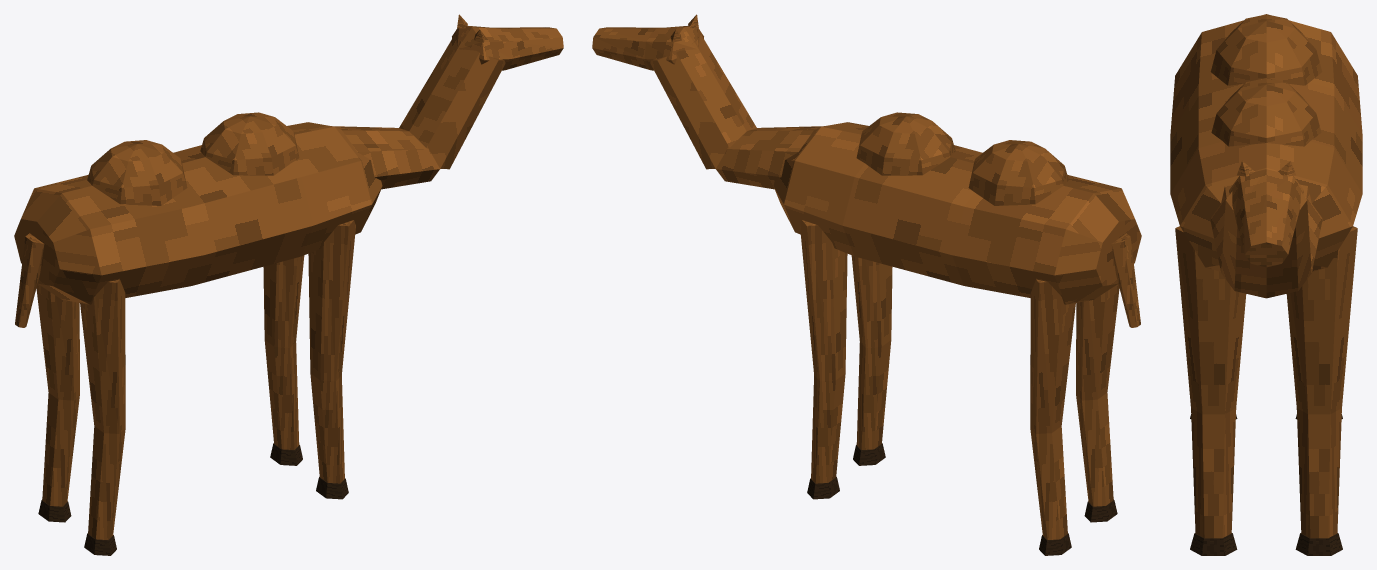
File: camello_bactriano.glb
3 renders of one model, left to right at view 1: azimuth 30°, elevation 25°; view 2: azimuth 150°, elevation 25°; view 3: azimuth 270°, elevation 25°, orthographic. The views are drawn at different scales.
Visible parts, largest first — view 1: cuerpo, cuello, pata_delantera_der, pata_trasera_der, pata_trasera_izq, pata_delantera_izq, joroba_1, joroba_2, cabeza, cola; view 2: cuerpo, cuello, pata_delantera_izq, pata_trasera_izq, pata_trasera_der, pata_delantera_der, joroba_1, joroba_2, cabeza, cola; view 3: cuerpo, pata_delantera_izq, pata_delantera_der, cuello, joroba_1, joroba_2, cabeza, pezuna_delantera_izq, pezuna_delantera_der, orejas.
Boxes of the visible parts, x1,y1,x2,y2 form: cuerpo: [14, 122, 382, 304]; cuello: [333, 35, 505, 189]; pata_delantera_der: [308, 220, 355, 483]; pata_trasera_der: [80, 279, 125, 539]; pata_trasera_izq: [36, 284, 79, 506]; pata_delantera_izq: [263, 255, 304, 449]; joroba_1: [87, 140, 187, 205]; joroba_2: [200, 112, 299, 175]; cabeza: [452, 26, 563, 70]; cola: [15, 233, 44, 327]; cuerpo: [773, 122, 1141, 304]; cuello: [650, 35, 822, 189]; pata_delantera_izq: [800, 220, 847, 483]; pata_trasera_izq: [1030, 279, 1075, 539]; pata_trasera_der: [1076, 284, 1119, 506]; pata_delantera_der: [851, 255, 892, 449]; joroba_1: [968, 140, 1068, 205]; joroba_2: [856, 112, 955, 175]; cabeza: [592, 26, 703, 70]; cola: [1111, 233, 1140, 327]; cuerpo: [1170, 14, 1362, 271]; pata_delantera_izq: [1286, 226, 1357, 538]; pata_delantera_der: [1175, 226, 1246, 538]; cuello: [1210, 184, 1322, 298]; joroba_1: [1210, 14, 1322, 85]; joroba_2: [1211, 78, 1321, 146]; cabeza: [1229, 169, 1303, 267]; pezuna_delantera_izq: [1295, 533, 1342, 555]; pezuna_delantera_der: [1190, 533, 1237, 555]; orejas: [1237, 161, 1295, 176].
Bounding box in the file's own units: 3 × 2.2 × 0.8.
Materials: 1 (1 with a texture image).
